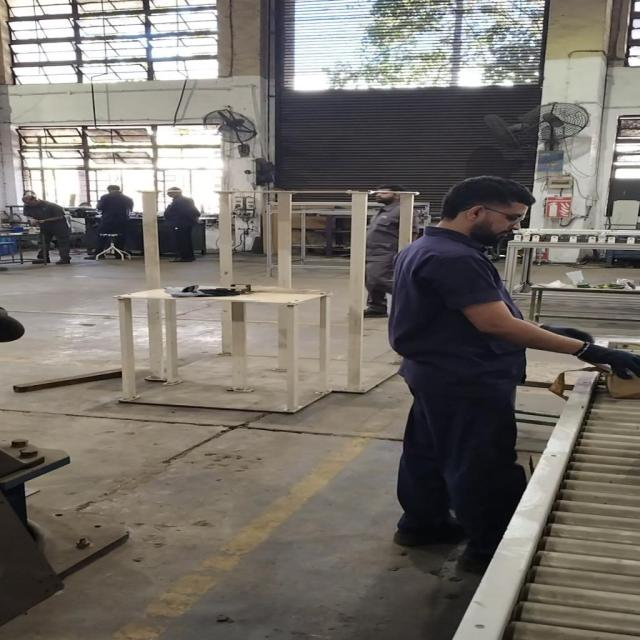Gloves-Detection: (577, 339, 634, 383)
